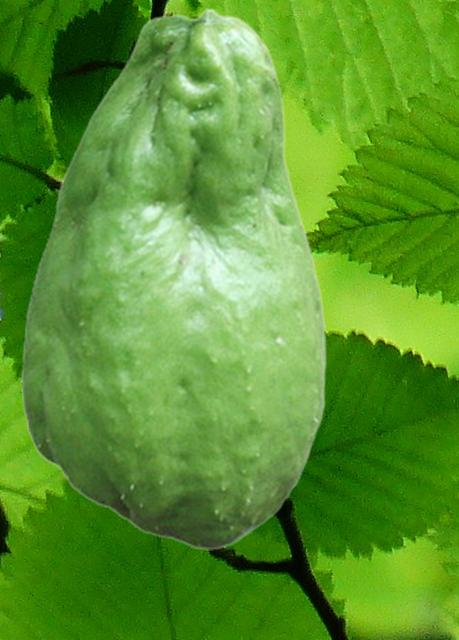sayote: (20, 7, 326, 549)
